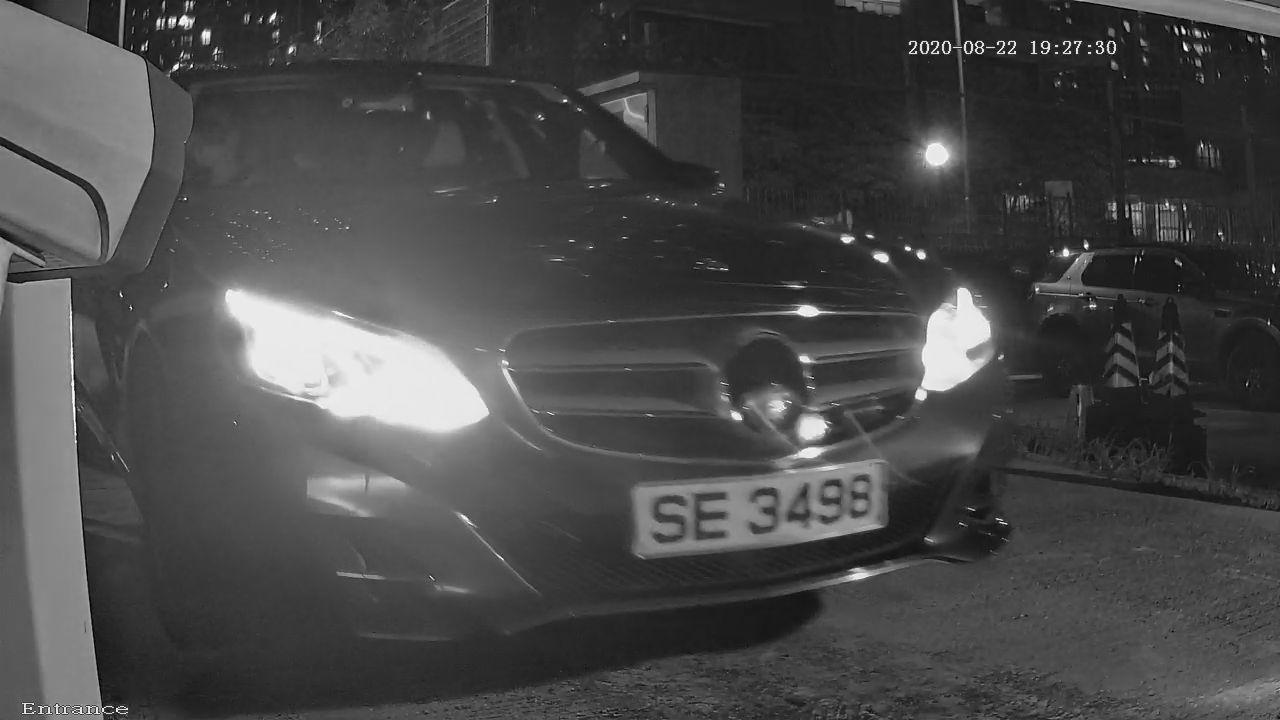Car: (35, 4, 1103, 692)
License Plate: (598, 435, 936, 583)
